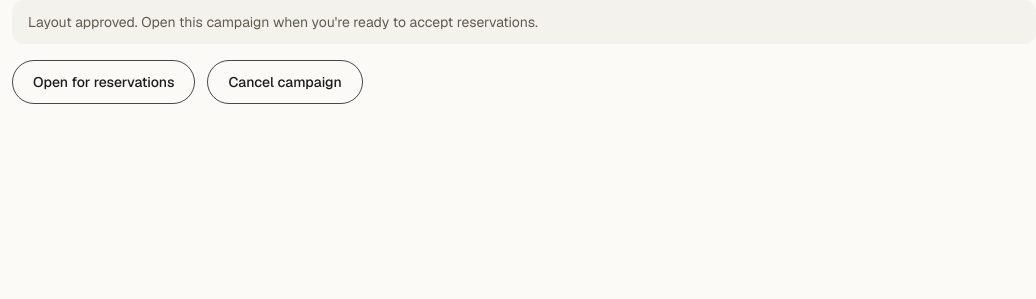
Scenario: approved layout offers opening but requires explicit confirmation
This screenshot has width=1036, height=299.
Later steps or results of the test are not shown.
Check: the text "Layout approved. Open this campaign when you're ready to accept reservations." is shown, box x1=12 y1=0 x2=1035 y2=44
Step 1. Click the button "Open for reservations" → x=104, y=82, box x1=12 y1=60 x2=196 y2=104
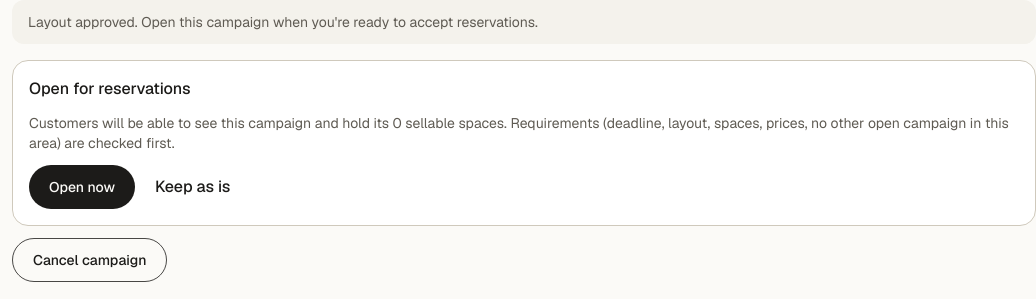
Check: the button "Open now" is shown, box x1=29 y1=165 x2=135 y2=209
